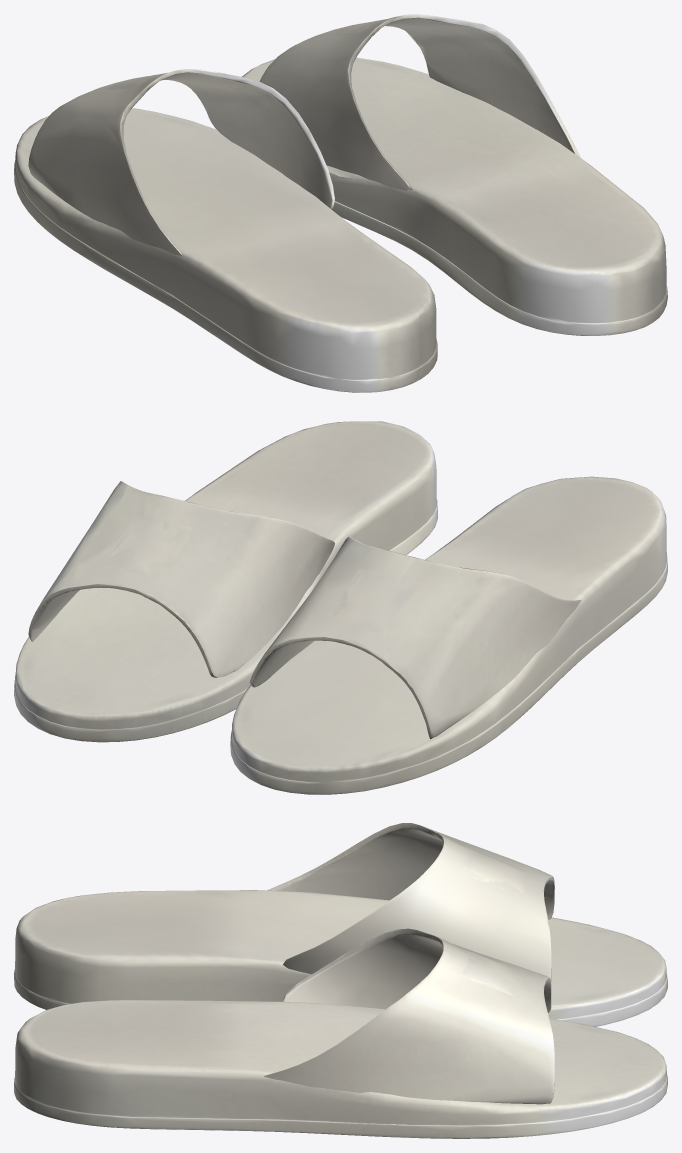
Rendered from raw_model.obj.
The picture shows the model from 3 angles, top to bottom: view 1: azimuth 30°, elevation 25°; view 2: azimuth 150°, elevation 25°; view 3: azimuth 270°, elevation 25°; orthographic projection. The views are drawn at different scales.
Visible parts, largest first — view 1: solid_001; view 2: solid_001; view 3: solid_001.
Part boxes in pixels (bbox=[...]): solid_001: bbox=[14, 14, 667, 392]; solid_001: bbox=[14, 421, 667, 794]; solid_001: bbox=[14, 823, 667, 1138].
Size of the model in its own units: 0.1795 by 0.0595 by 0.2454.
1 material, 1 textured.
